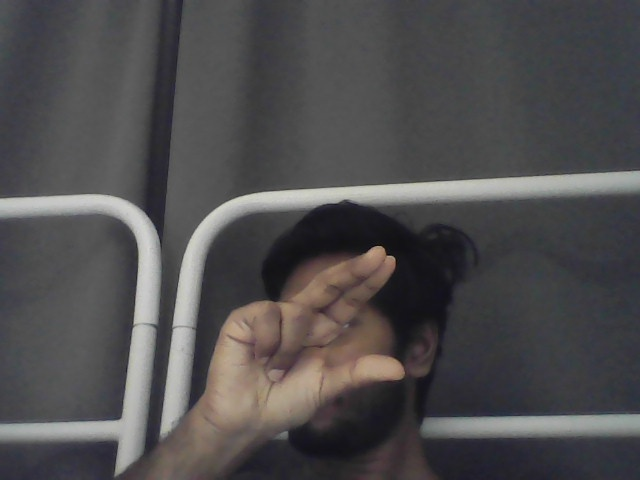no: (203, 244, 407, 443)
